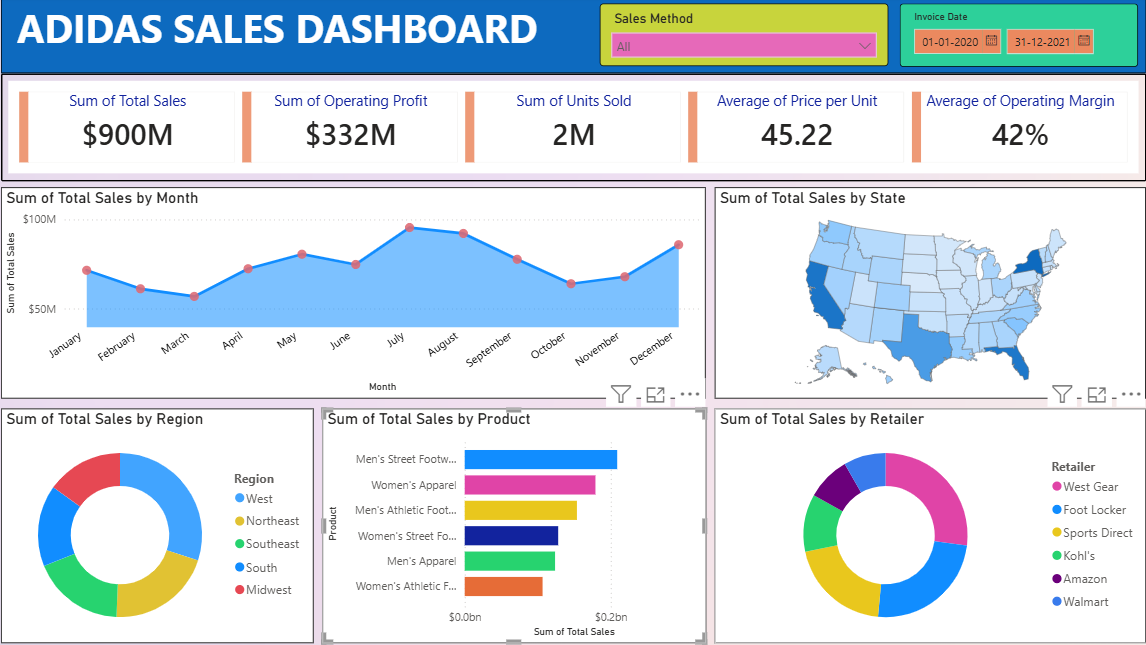

This screenshot's page, from the dashboard's own definition file:
{"tool":"powerbi","page":{"name":"Page 1","canvas":[1280,720],"ordinal":0},"visuals":[{"type":"cardVisual","fields":{"Data":["Sum(Data Sales Adidas.Total Sales)","Sum(Data Sales Adidas.Operating Profit)","Sum(Data Sales Adidas.Units Sold)","Avg(Data Sales Adidas.Price per Unit)","Avg(Data Sales Adidas.Operating Margin)"]},"box":[11,85.1,1258.3,118],"z":0},{"type":"textbox","box":[11,0,1258.3,85.1],"z":1000},{"type":"areaChart","fields":{"Y":["Sum(Data Sales Adidas.Total Sales)"],"Category":["Data Sales Adidas.Invoice Date.Variation.Date Hierarchy.Month"]},"box":[11,209.9,773.9,231.9],"z":1001},{"type":"shapeMap","fields":{"Category":["Data Sales Adidas.State"],"Value":["Sum(Data Sales Adidas.Total Sales)"]},"box":[794.5,209.9,474.8,231.9],"z":1002},{"type":"donutChart","fields":{"Y":["Sum(Data Sales Adidas.Total Sales)"],"Category":["Data Sales Adidas.Region"]},"box":[11,452.8,343.1,258],"z":1003},{"type":"barChart","fields":{"Y":["Sum(Data Sales Adidas.Total Sales)"],"Category":["Data Sales Adidas.Product"]},"box":[363.6,452.8,421.3,258],"z":1004},{"type":"donutChart","fields":{"Category":["Data Sales Adidas.Retailer"],"Y":["Sum(Data Sales Adidas.Total Sales)"]},"box":[794.5,452.8,474.8,258],"z":1005},{"type":"slicer","fields":{"Values":["Data Sales Adidas.Sales Method"]},"box":[668.5,8.2,316.4,68.5],"z":1006},{"type":"slicer","fields":{"Values":["Data Sales Adidas.Invoice Date"]},"box":[997.3,8.2,261.6,69.9],"z":1007}]}

Visuals, with their boxes in screenshot pixels (x1, y1, x2, y2), scaled from the page's 1280x720 canvas onto the 1146x645 screenshot:
cardVisual - Sum(Data Sales Adidas.Total Sales) x Sum(Data Sales Adidas.Operating Profit): (x1=10, y1=76, x2=1136, y2=182)
textbox: (x1=10, y1=0, x2=1136, y2=76)
areaChart - Sum(Data Sales Adidas.Total Sales) x Data Sales Adidas.Invoice Date.Variation.Date Hierarchy.Month: (x1=10, y1=188, x2=703, y2=396)
shapeMap - Data Sales Adidas.State x Sum(Data Sales Adidas.Total Sales): (x1=711, y1=188, x2=1136, y2=396)
donutChart - Sum(Data Sales Adidas.Total Sales) x Data Sales Adidas.Region: (x1=10, y1=406, x2=317, y2=637)
barChart - Sum(Data Sales Adidas.Total Sales) x Data Sales Adidas.Product: (x1=326, y1=406, x2=703, y2=637)
donutChart - Data Sales Adidas.Retailer x Sum(Data Sales Adidas.Total Sales): (x1=711, y1=406, x2=1136, y2=637)
slicer - Data Sales Adidas.Sales Method: (x1=599, y1=7, x2=882, y2=69)
slicer - Data Sales Adidas.Invoice Date: (x1=893, y1=7, x2=1127, y2=70)
